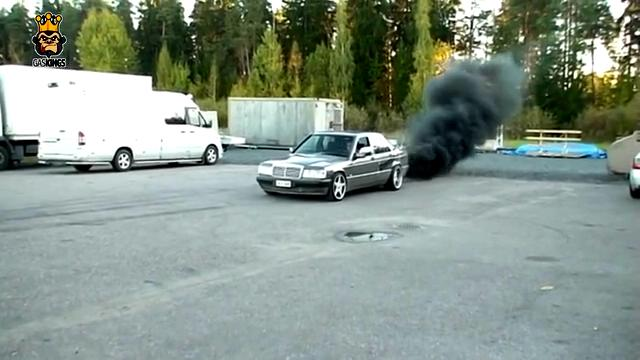smoke: (403, 50, 531, 181)
